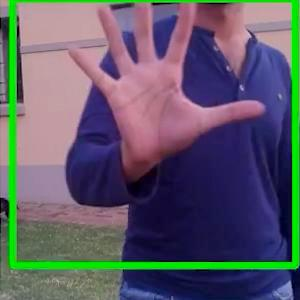follow_hand: (61, 0, 267, 166)
